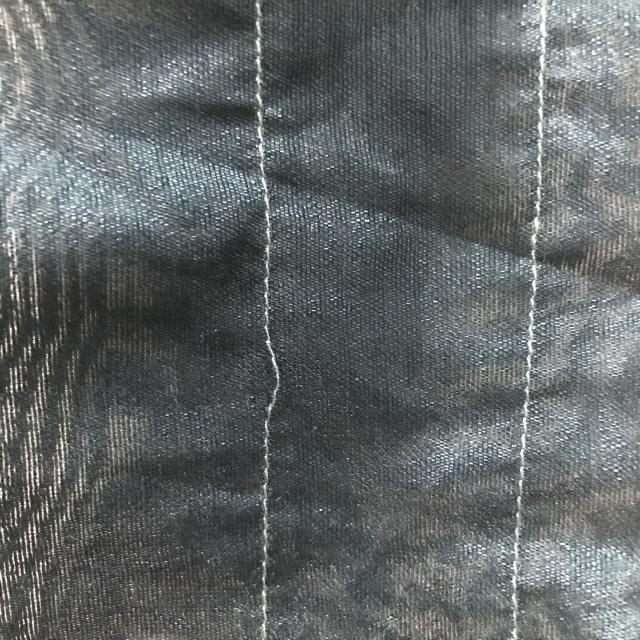good: (238, 195, 284, 299)
skip: (256, 326, 294, 424)
